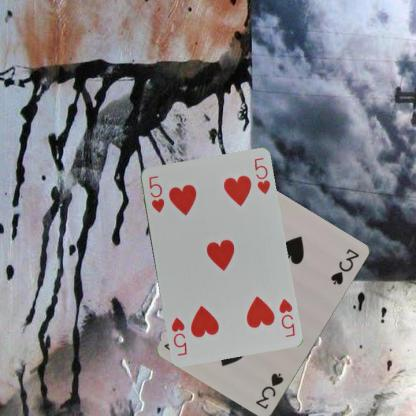3s: (252, 370, 285, 411)
5h: (275, 296, 296, 338), (146, 173, 166, 214)
